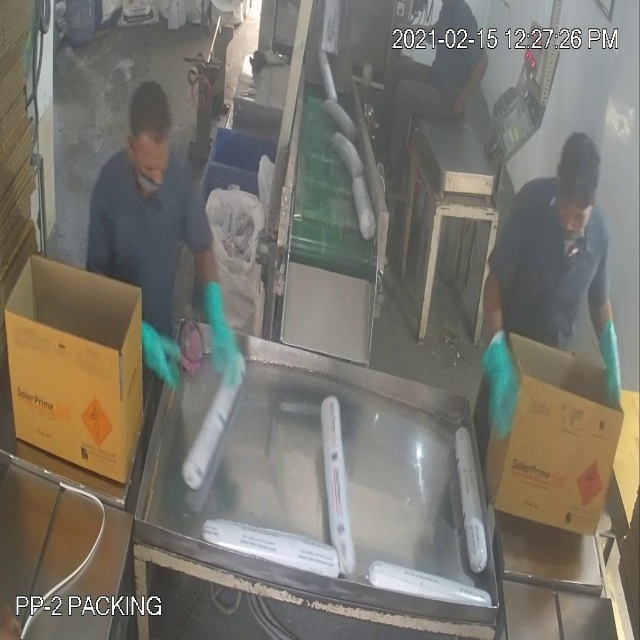Guantes: (468, 324, 524, 453), (191, 279, 254, 387), (125, 301, 188, 399), (596, 304, 623, 418)
Sin_guantes: (448, 35, 495, 140)
